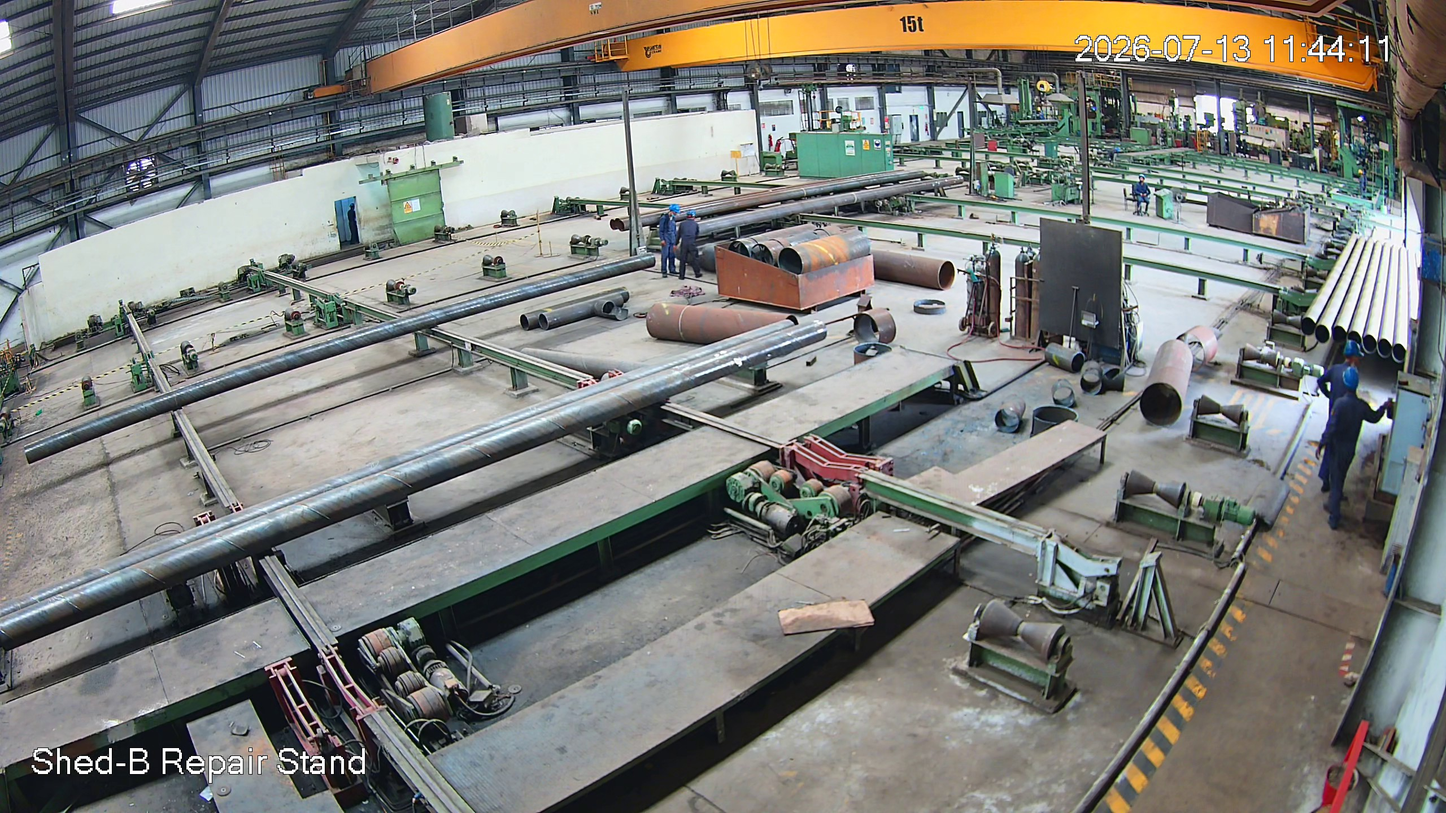Helmet: (1335, 365, 1369, 400)
Person: (1320, 371, 1374, 538)
